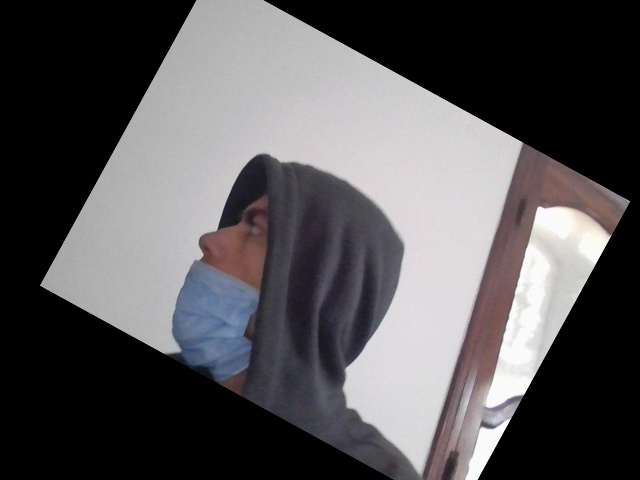mask_weared_incorrect: (166, 178, 343, 389)
